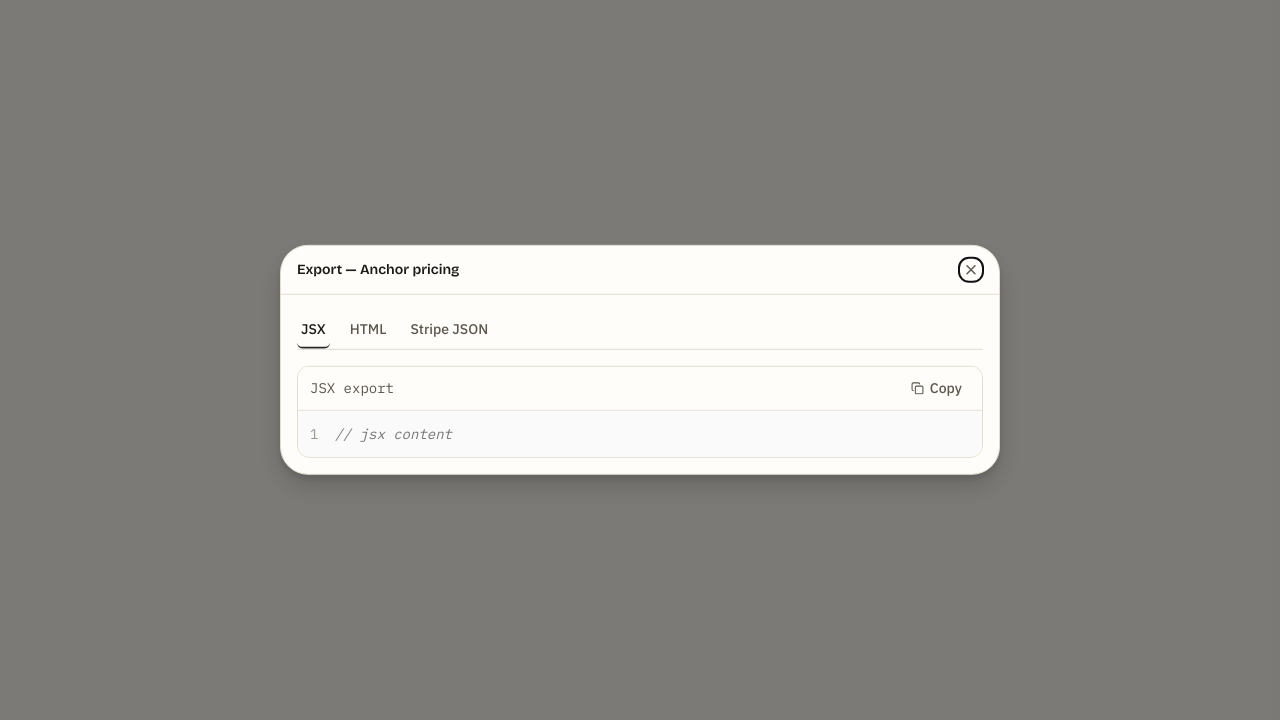
Test: ExportDialog › switches format and refetches when a different tab is selected
Expected: the text "// jsx content" is shown, top-left (334, 424), bottom-right (452, 442)
Press the mouse on the tab "Stripe JSON" at (449, 330), box top-left (406, 311), bottom-right (492, 349)
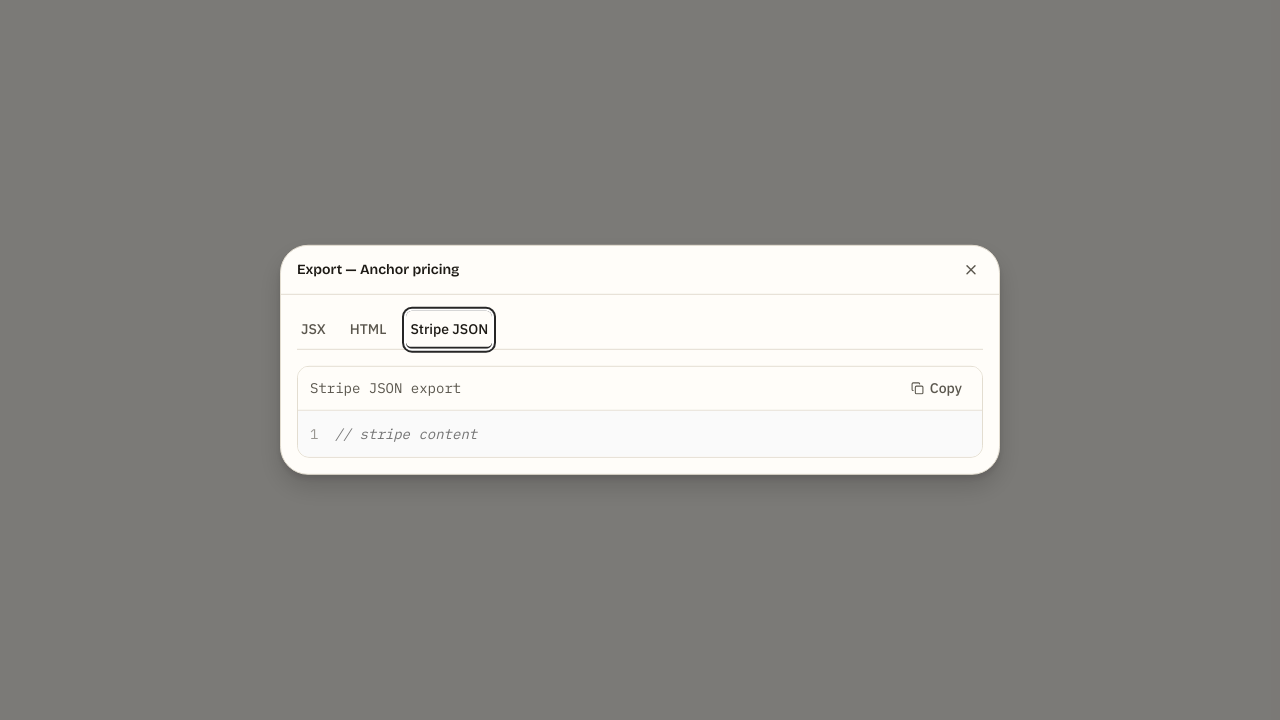
Expected: the text "// stripe content" is shown, top-left (334, 424), bottom-right (477, 442)
